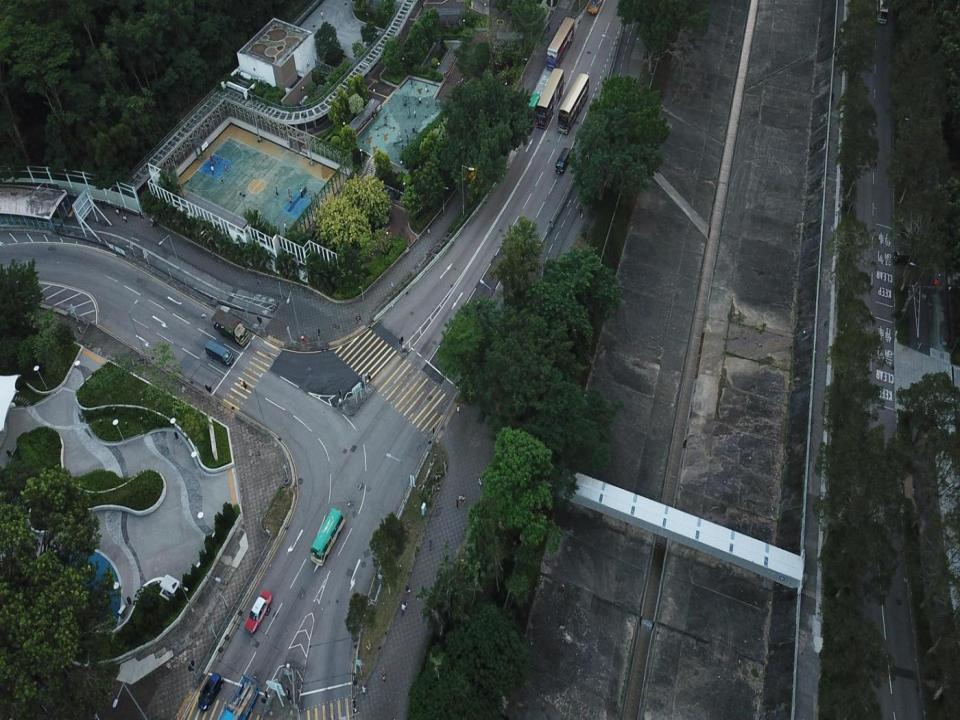bus: (310, 508, 346, 566), (558, 73, 588, 134), (535, 67, 564, 128), (546, 16, 575, 72), (516, 92, 539, 131), (876, 0, 888, 25)
car: (244, 590, 273, 634), (198, 672, 224, 711)
truck: (218, 674, 260, 719), (211, 309, 250, 347)
van: (206, 341, 234, 367), (555, 147, 570, 174), (892, 249, 913, 265)
